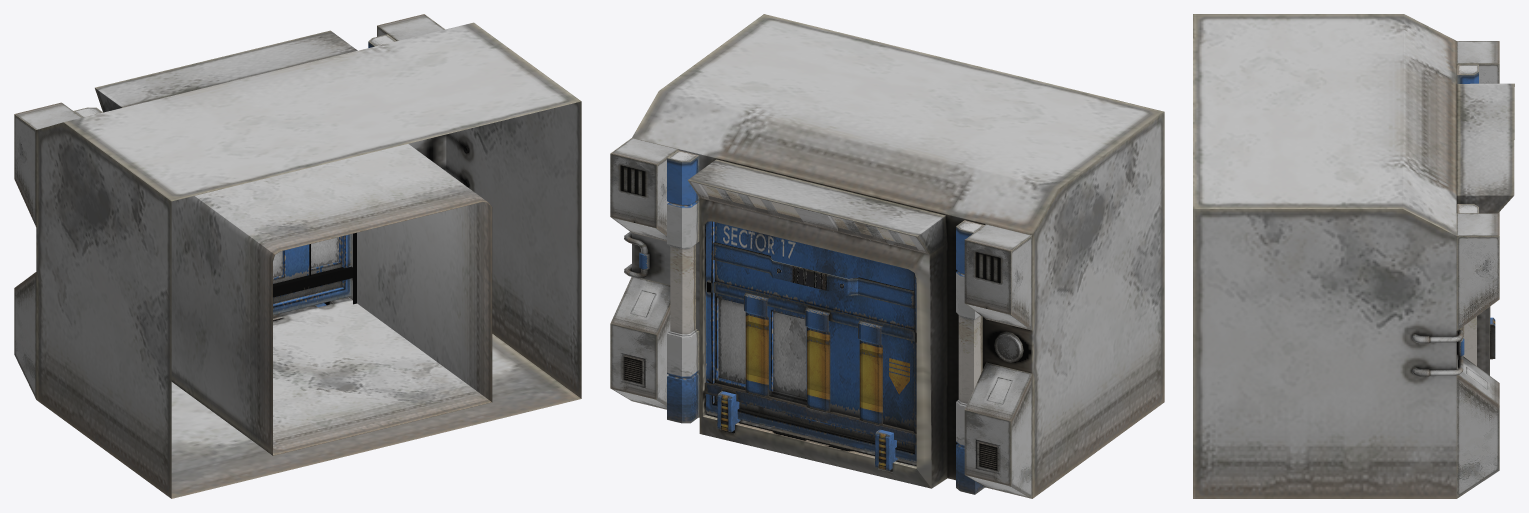
The model's file is strct_WH_A_baydoor.fbx.
The picture shows the model from 3 angles, left to right: view 1: azimuth 30°, elevation 25°; view 2: azimuth 150°, elevation 25°; view 3: azimuth 270°, elevation 25°; orthographic projection. The views are drawn at different scales.
Visible parts, largest first — view 1: baydoor; view 2: baydoor; view 3: baydoor.
Boxes of the visible parts, box(x1,y1,x2,y2) form: baydoor: box(14, 14, 581, 498); baydoor: box(610, 14, 1164, 498); baydoor: box(1193, 14, 1514, 498).
Bounding box in the file's own units: 517 × 350 × 352.
